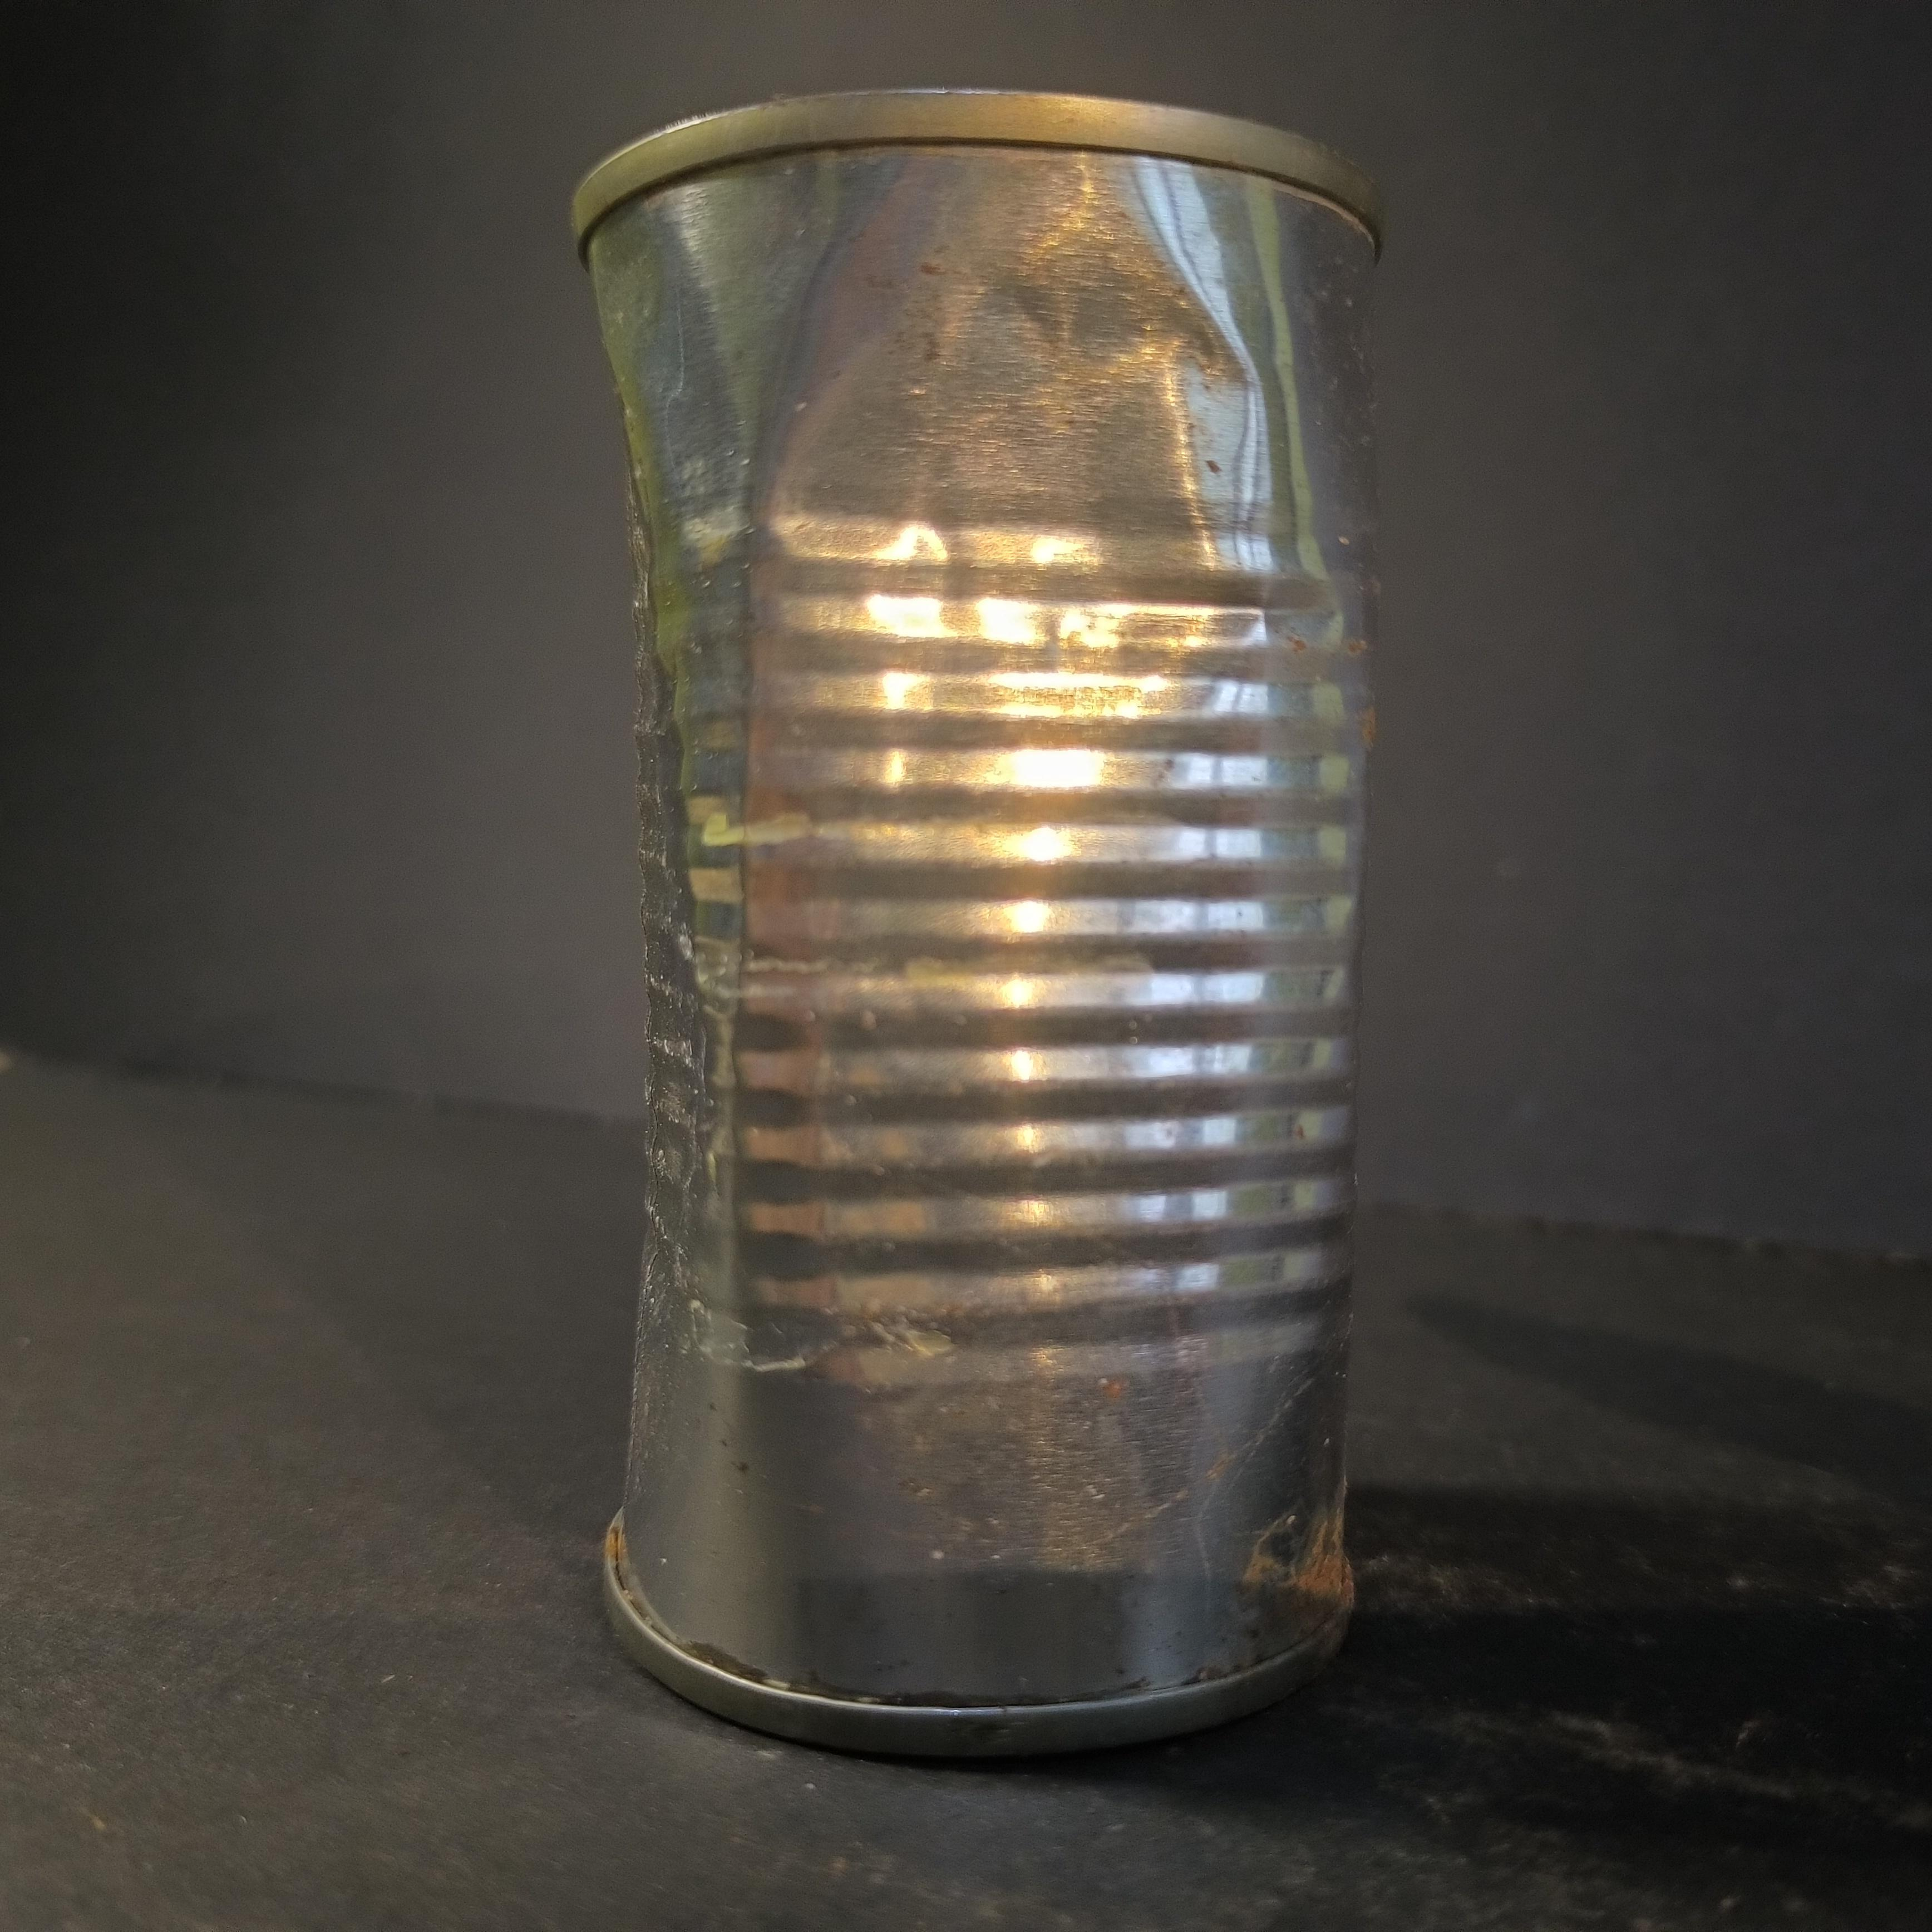Dented: (520, 53, 1405, 1748)
